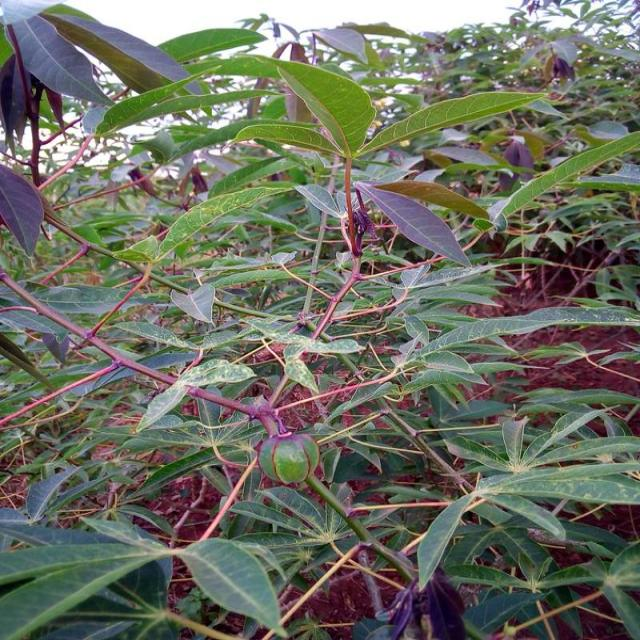cassava leaf: (2, 2, 639, 638), (182, 535, 288, 637), (354, 178, 473, 268), (277, 58, 377, 159)
